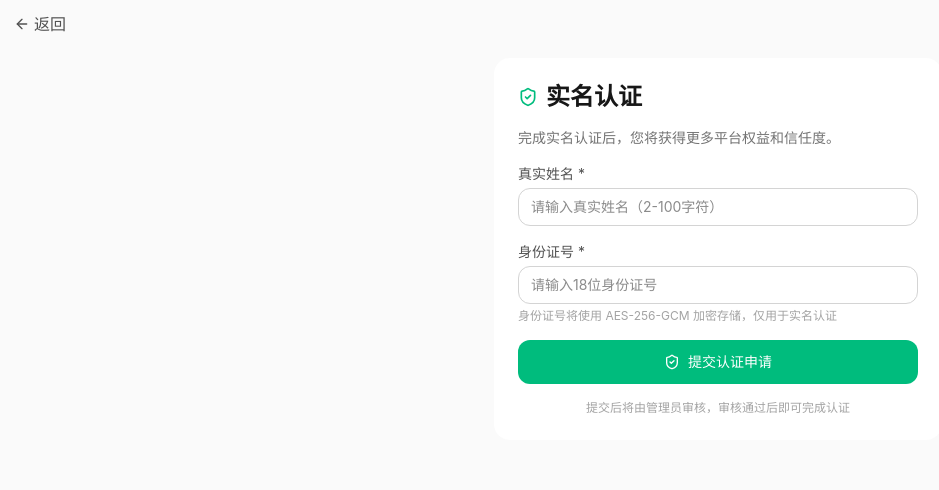
Profile/Verify 实名认证页 › 真实姓名不足2字符时显示长度错误
expect the button "提交认证申请" is shown: met, box [518,340,918,384]
In the field with placeholder "请输入真实姓名（2-100字符）": (718, 207) [518,188,918,226], type "张"
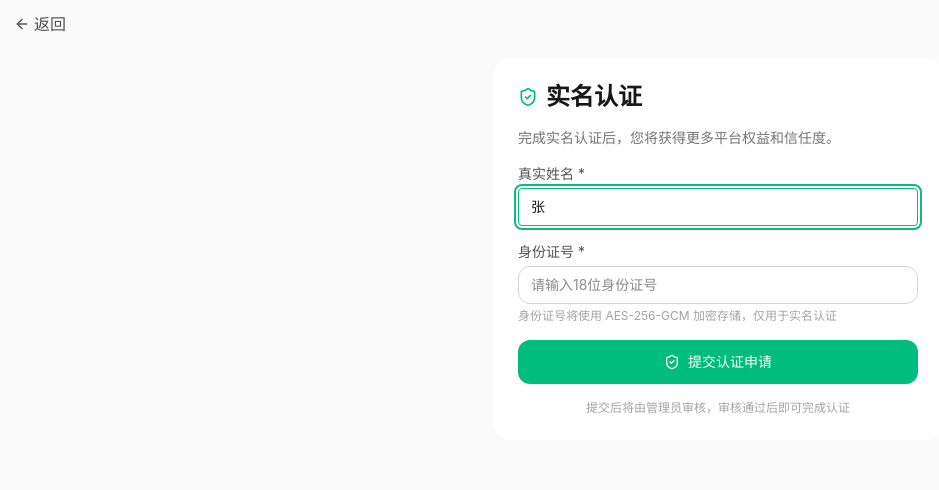
In the field with placeholder "请输入18位身份证号": (718, 285) [518,266,918,304], type "110101199001011234"
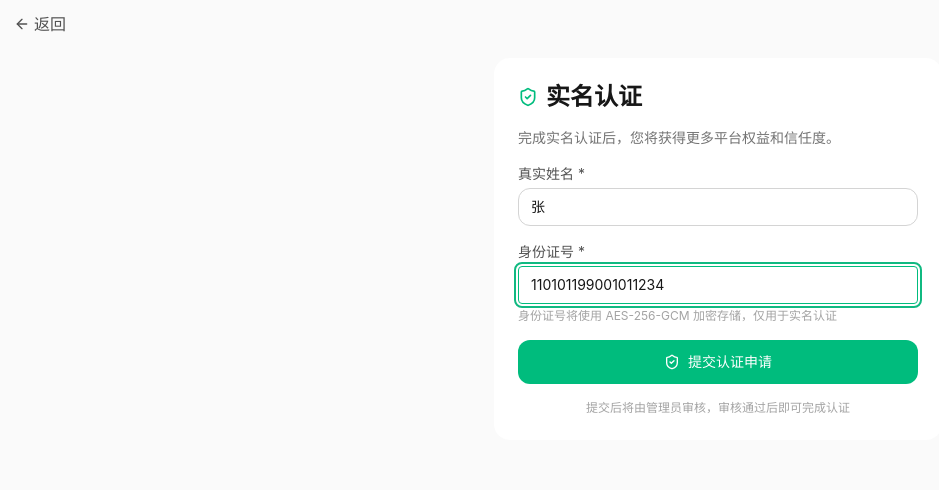
Click the button "提交认证申请": (718, 362) [518,340,918,384]
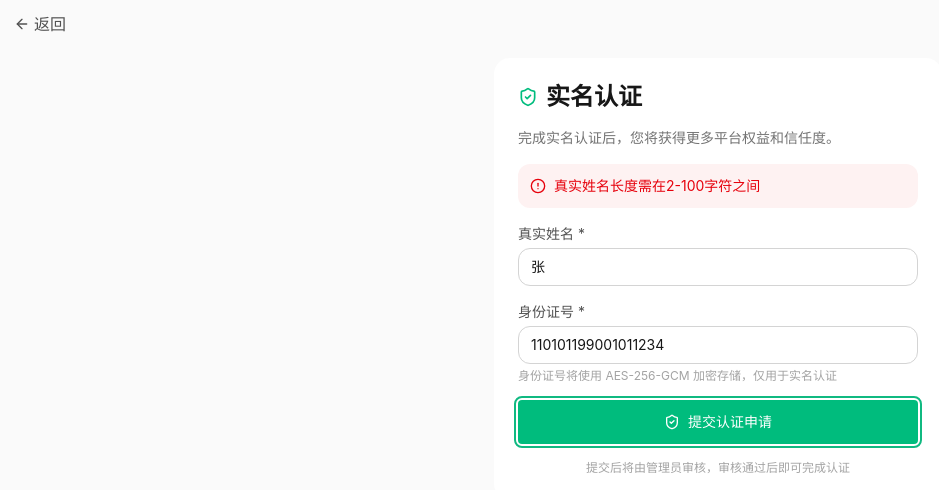
expect the text "真实姓名长度需在2-100字符之间" is shown: met, box [518,164,918,208]
